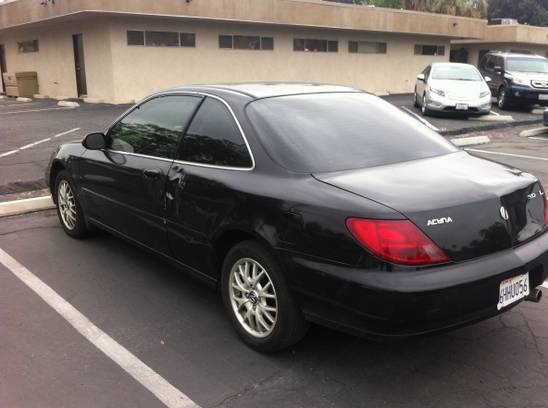acura: (37, 85, 548, 351)
